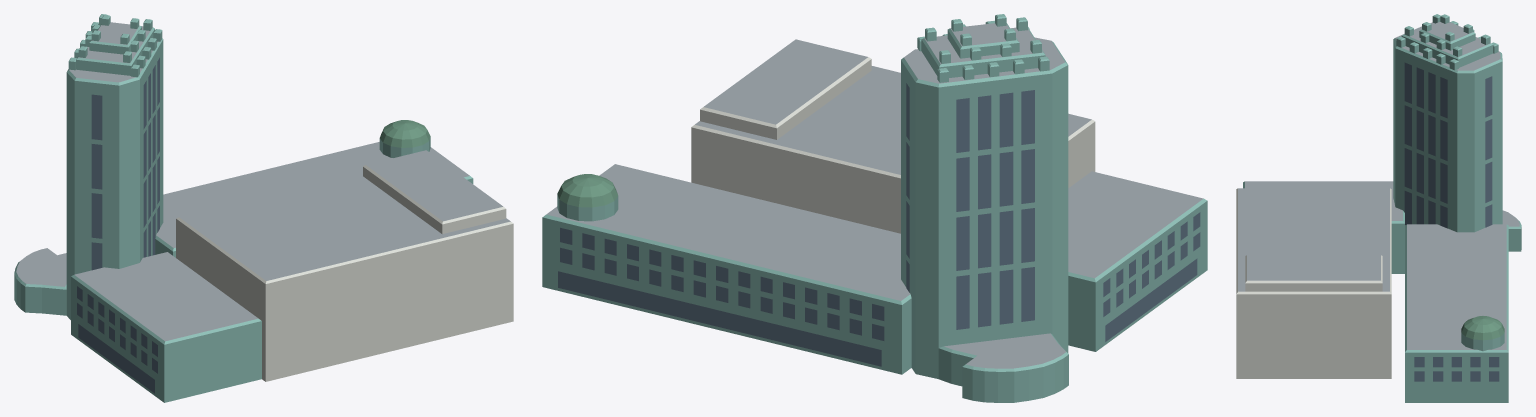
The model's file is la-wiltern.glb.
3 renders of one model, left to right at view 1: azimuth 30°, elevation 25°; view 2: azimuth 150°, elevation 25°; view 3: azimuth 270°, elevation 25°, orthographic. The views are drawn at different scales.
Visible parts, largest first — view 1: The Wiltern; view 2: The Wiltern; view 3: The Wiltern.
Part boxes in pixels (<box>): The Wiltern: <box>14,14,513,402</box>; The Wiltern: <box>542,14,1207,402</box>; The Wiltern: <box>1236,14,1521,402</box>.
Size of the model in its own units: 93.5 by 59.1 by 64.3.
